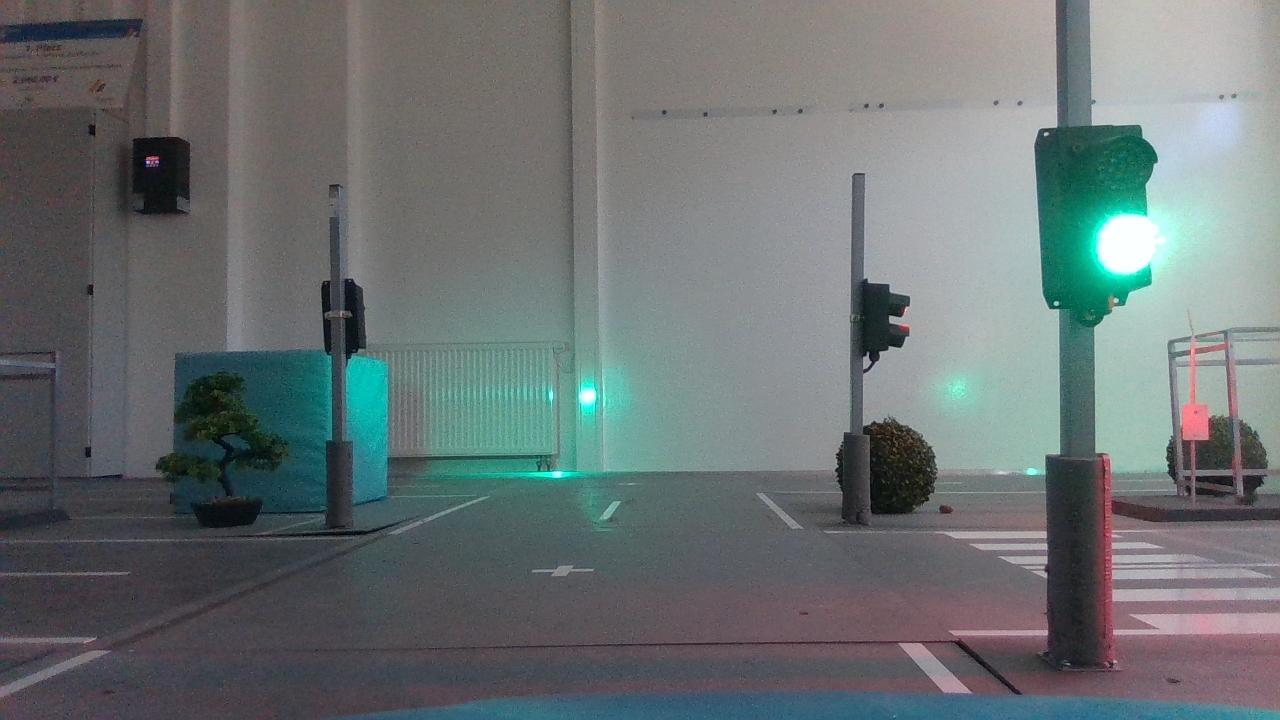traffic_light_green: (1022, 107, 1171, 337)
